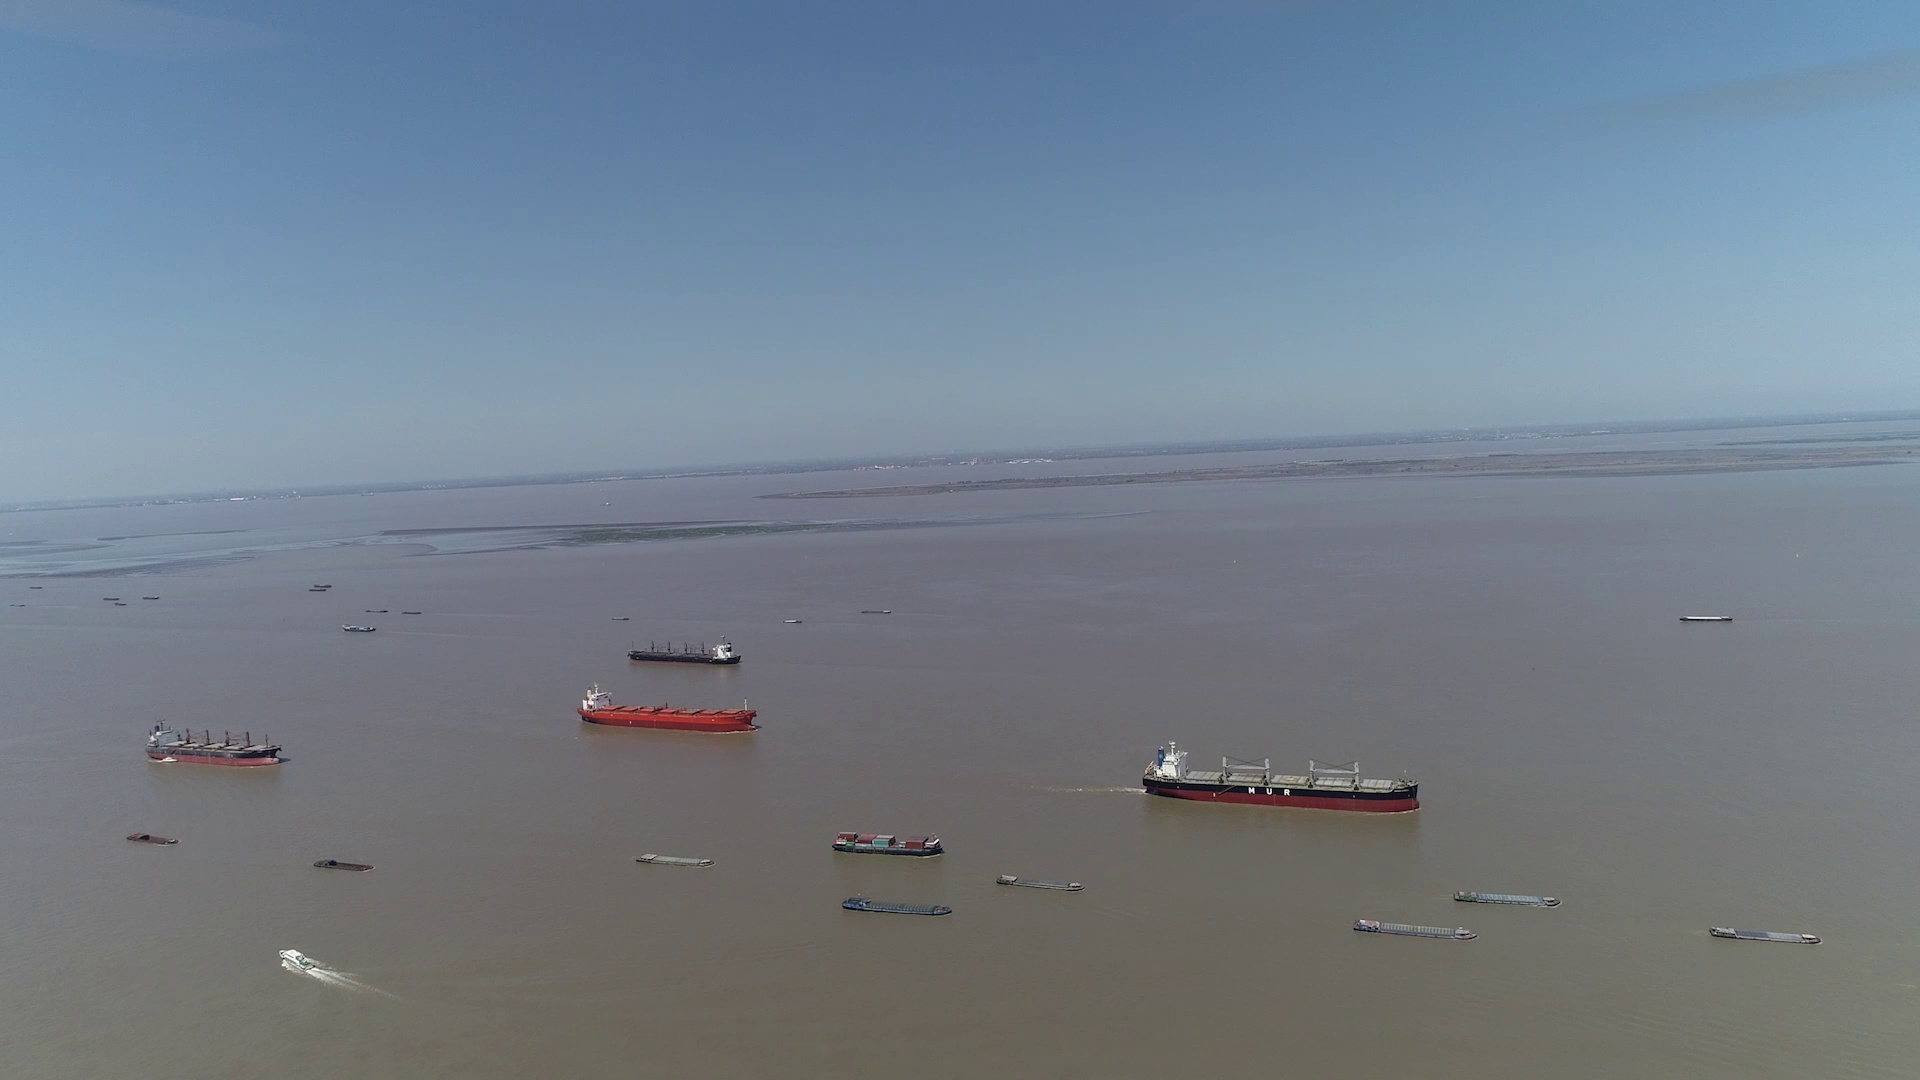ship: (1139, 740, 1422, 814), (578, 684, 753, 733), (146, 719, 284, 767), (625, 638, 738, 665), (1354, 916, 1480, 940), (829, 829, 945, 855), (1708, 926, 1821, 945), (841, 897, 949, 916), (1453, 887, 1561, 907), (996, 874, 1085, 891), (638, 852, 713, 866), (314, 858, 373, 872), (124, 832, 175, 845), (280, 948, 313, 968), (1677, 612, 1733, 621), (342, 622, 377, 632)
